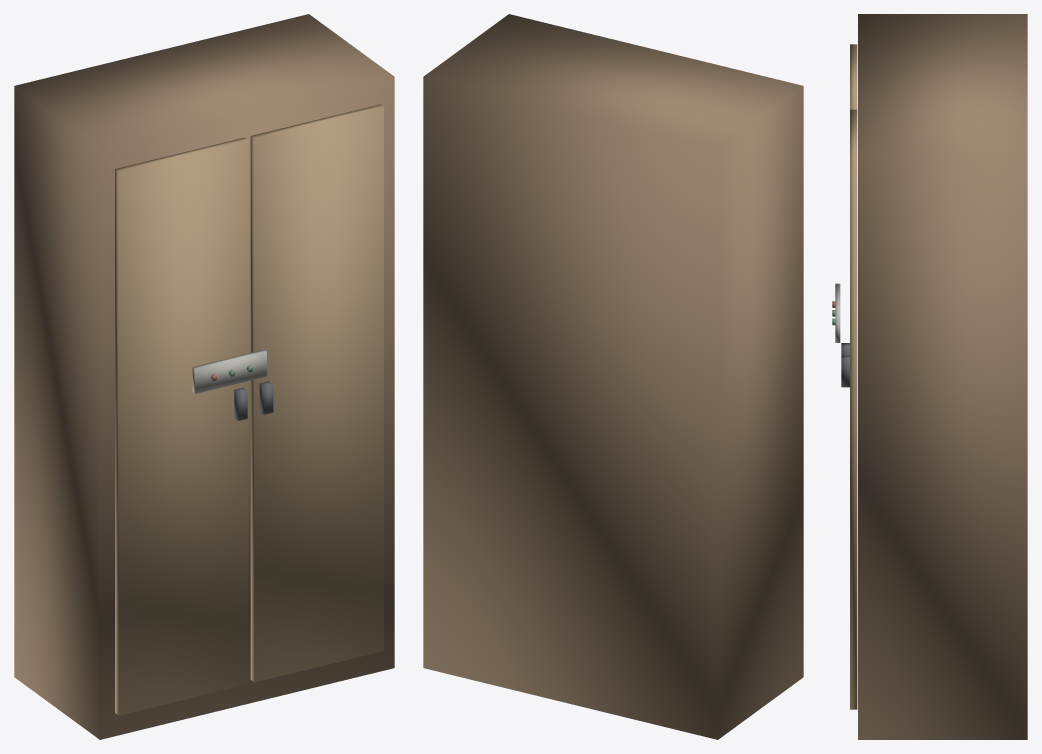
The model's file is wardrobe__tall.glb.
The picture shows the model from 3 angles, left to right: view 1: azimuth 30°, elevation 25°; view 2: azimuth 150°, elevation 25°; view 3: azimuth 270°, elevation 25°; orthographic projection.
Parts seen in each view (by area): view 1: world; view 2: world; view 3: world.
Boxes of the visible parts, box(x1,y1,x2,y2) form: world: box(14, 14, 394, 739); world: box(423, 14, 803, 739); world: box(832, 14, 1027, 739).
Size of the model in its own units: 1.15 by 2.2 by 0.6685.
